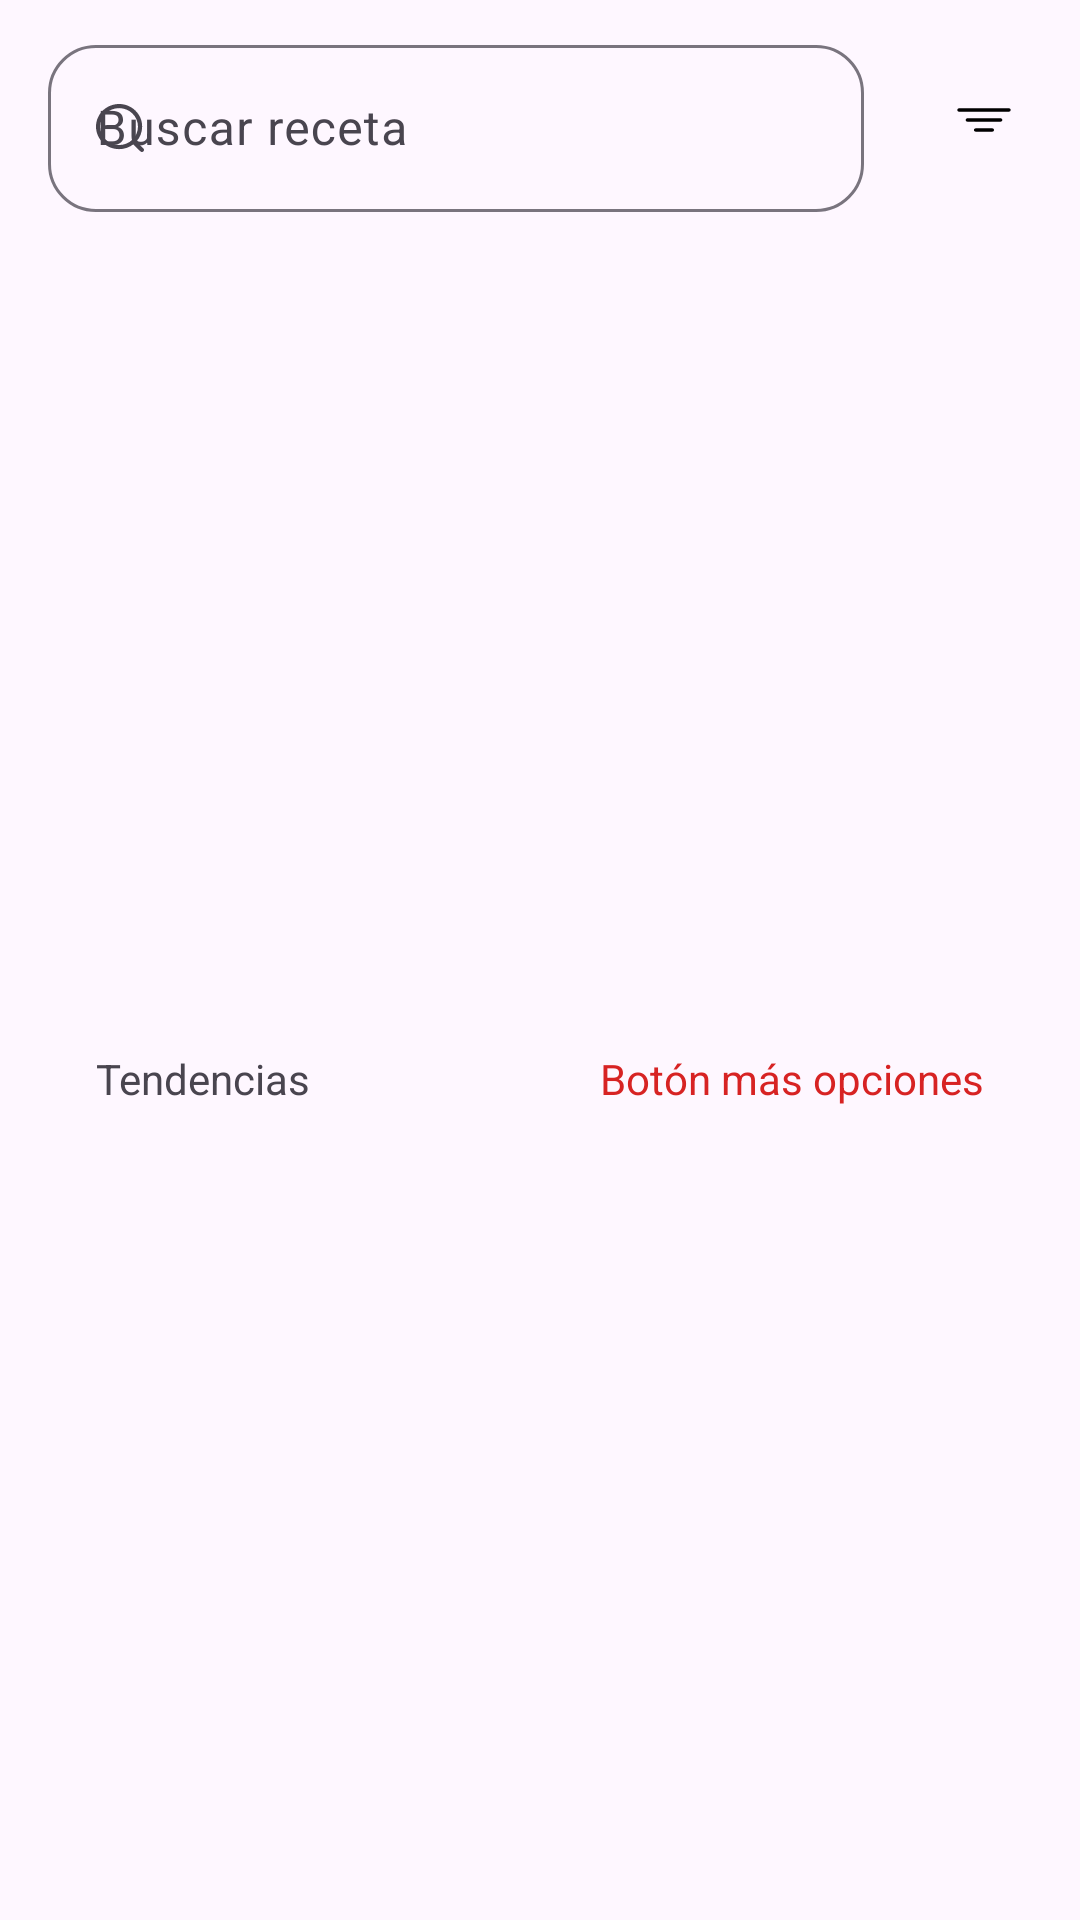

Screen size 1080x1920. Icon name, then its center in pixels as point (x, y):
Botón para filtrar: point (984, 120)
